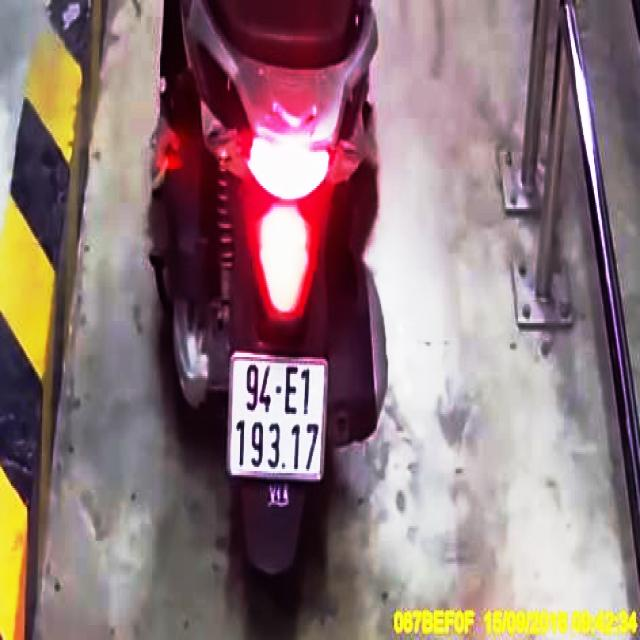license_plate: (231, 350, 331, 481)
